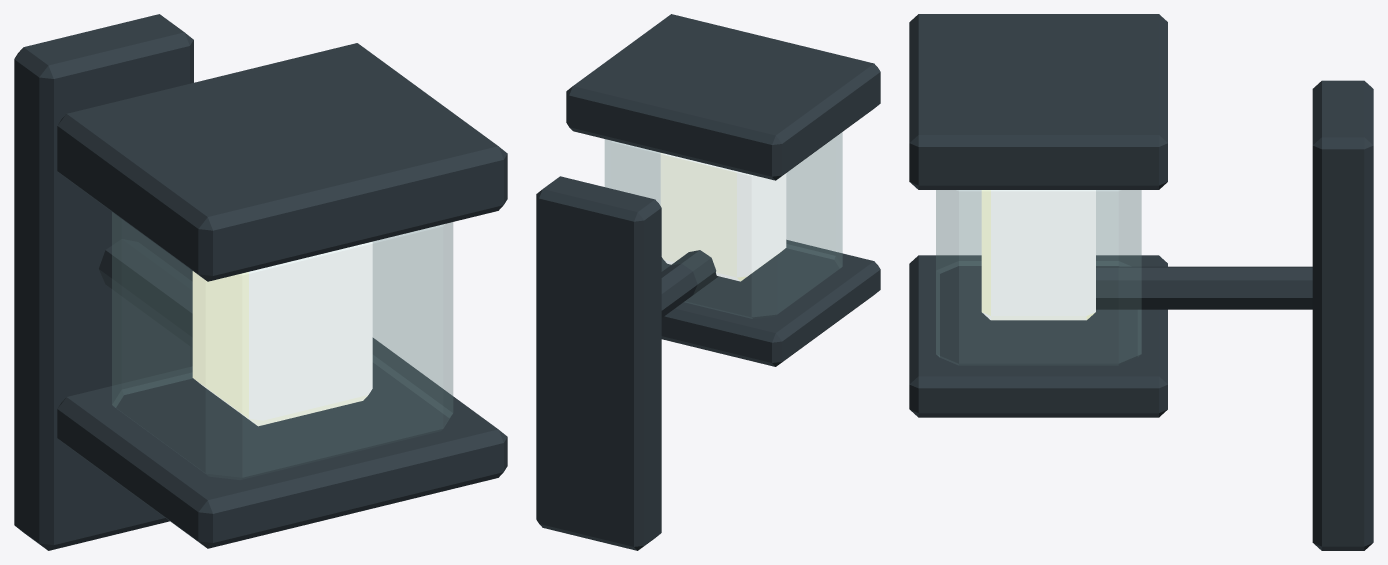
File: Lamp_Wall_Exterior.glb
The picture shows the model from 3 angles, left to right: view 1: azimuth 30°, elevation 25°; view 2: azimuth 150°, elevation 25°; view 3: azimuth 270°, elevation 25°; orthographic projection. The views are drawn at different scales.
Visible parts, largest first — view 1: Lamp_Wall_Exterior; view 2: Lamp_Wall_Exterior; view 3: Lamp_Wall_Exterior.
Boxes of the visible parts, x1,y1,x2,y2 form: Lamp_Wall_Exterior: (14,14,507,550); Lamp_Wall_Exterior: (536,14,880,550); Lamp_Wall_Exterior: (909,14,1373,550).
Bounding box in the file's own units: 0.4 × 0.65 × 0.61.
